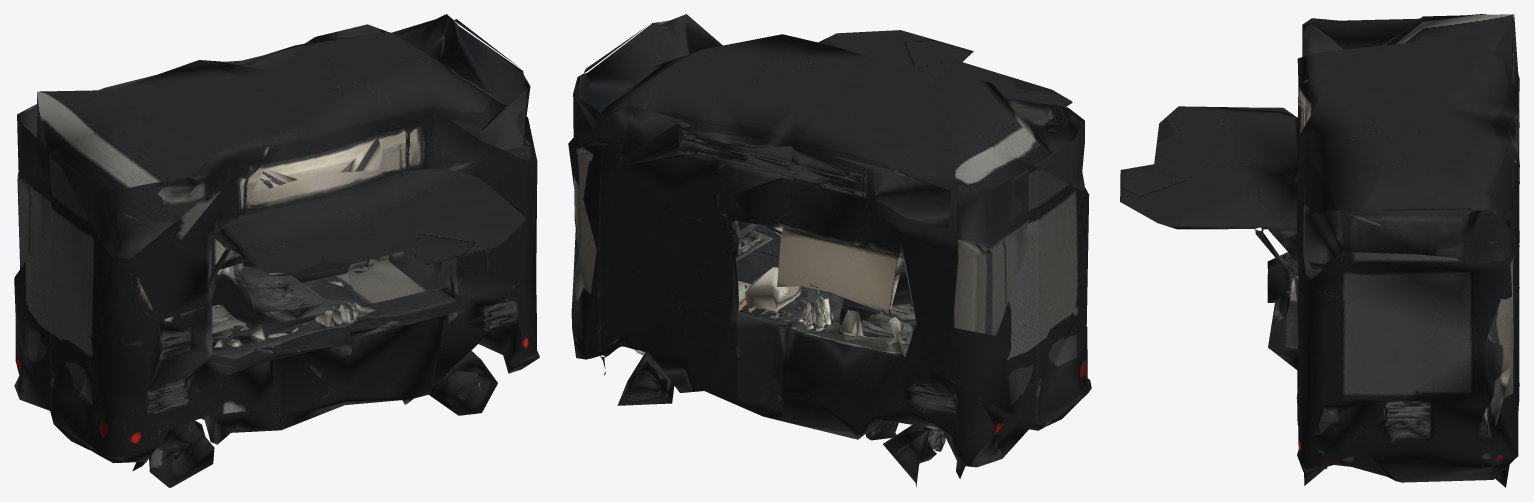
File: food_truck.glb
3 views of the same model, side by side, from view 1: azimuth 30°, elevation 25°; view 2: azimuth 150°, elevation 25°; view 3: azimuth 270°, elevation 25° (orthographic). The views are drawn at different scales.
Bounding box in the file's own units: 1.9 × 1.37 × 1.55.
Materials: 1 (1 with a texture image).
